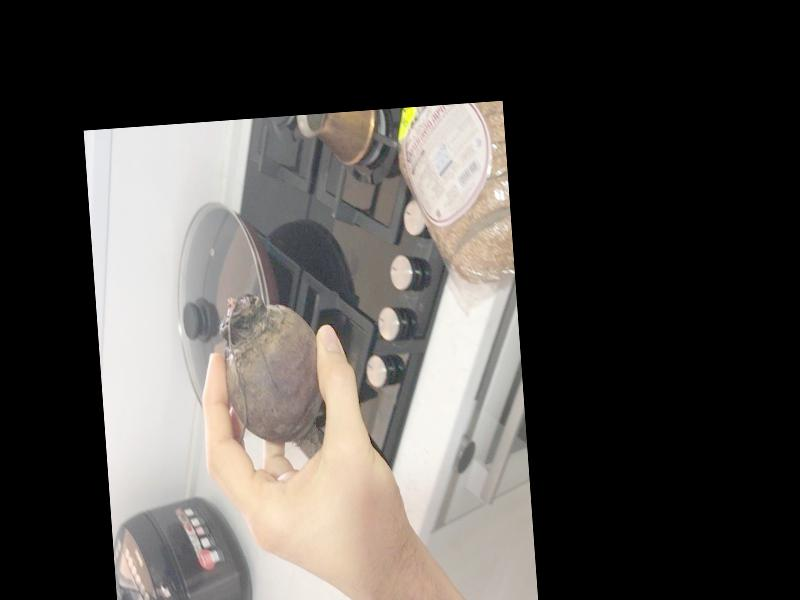Beet: (219, 289, 325, 455)
